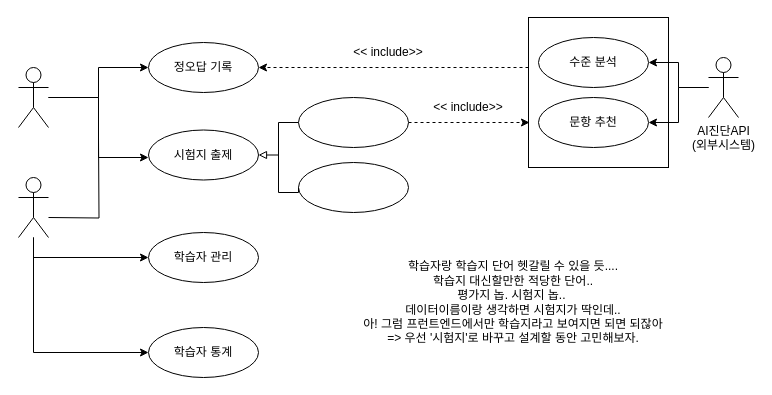
Image size: 772x395. Some labels were removed from this diagram. The shapes that lost their labels are listed below. From the top down, each one's box as (x1, y1, x2, y2) in pixels, then its label:
(18, 66, 48, 128): 학습자
(298, 96, 408, 148): 맞춤시험지 출제
(18, 176, 48, 238): 선생님
(298, 162, 408, 212): 진단시험지 출제
